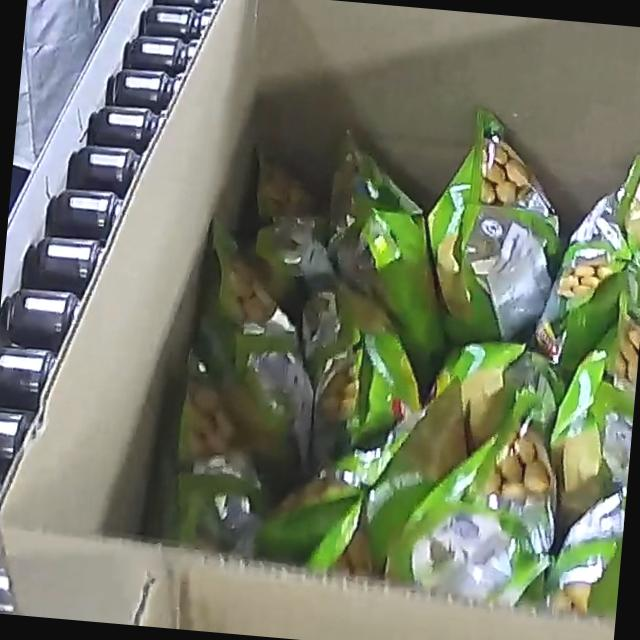yogurt: (157, 81, 640, 621)
